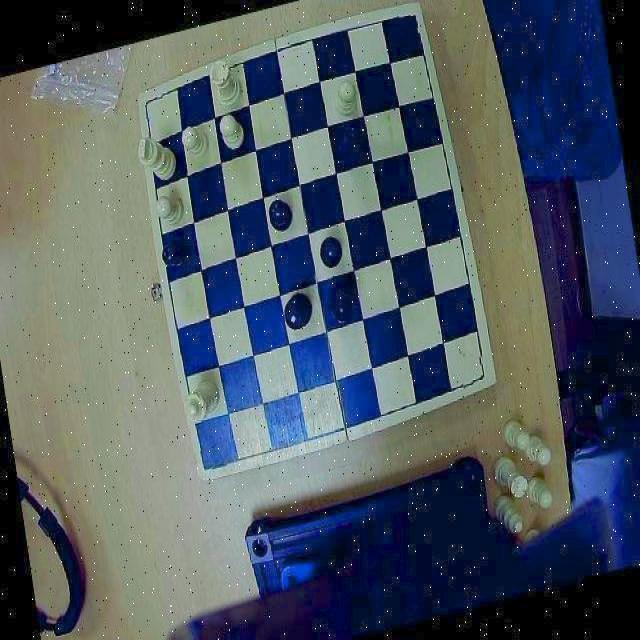chess-table-corners: (459, 354, 494, 392), (394, 3, 426, 37), (196, 443, 228, 477), (138, 88, 164, 120)
